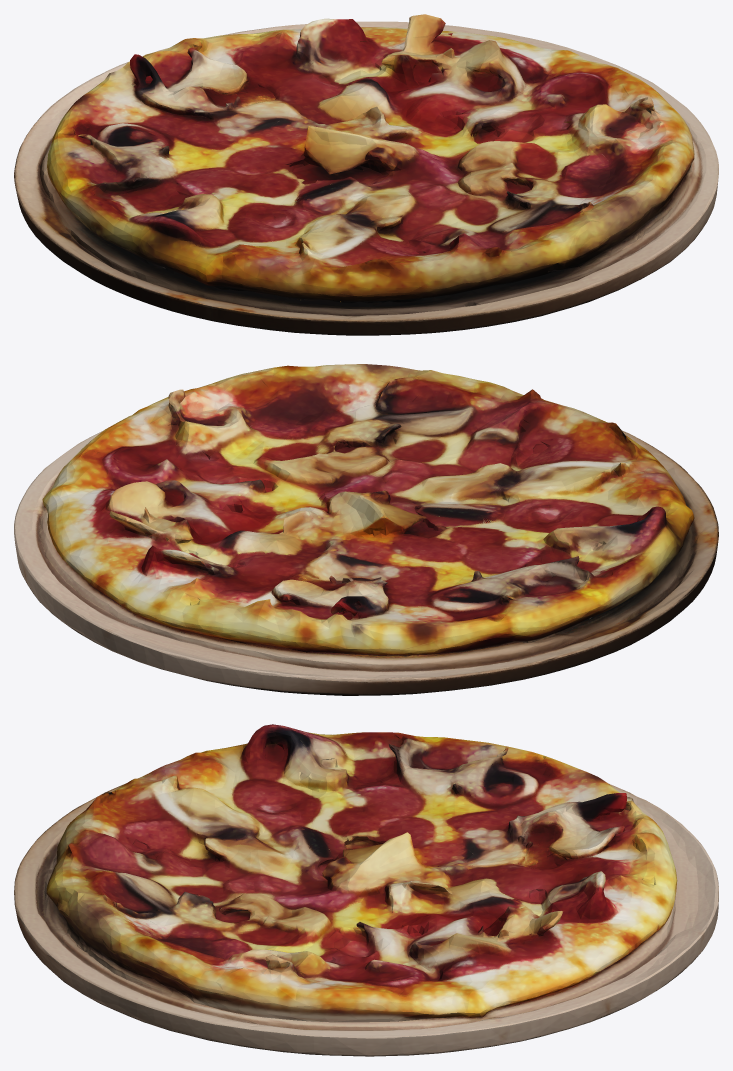
Rendered from sample1.glb.
3 views of the same model, one above another, from view 1: azimuth 30°, elevation 25°; view 2: azimuth 150°, elevation 25°; view 3: azimuth 270°, elevation 25° (orthographic).
Parts seen in each view (by area): view 1: world; view 2: world; view 3: world.
Boxes of the visible parts, <box> form: world: <box>14,14,718,335</box>; world: <box>14,364,718,695</box>; world: <box>14,724,718,1056</box>.
Bounding box in the file's own units: 1 × 0.1214 × 1.
Materials: 1 (1 with a texture image).
